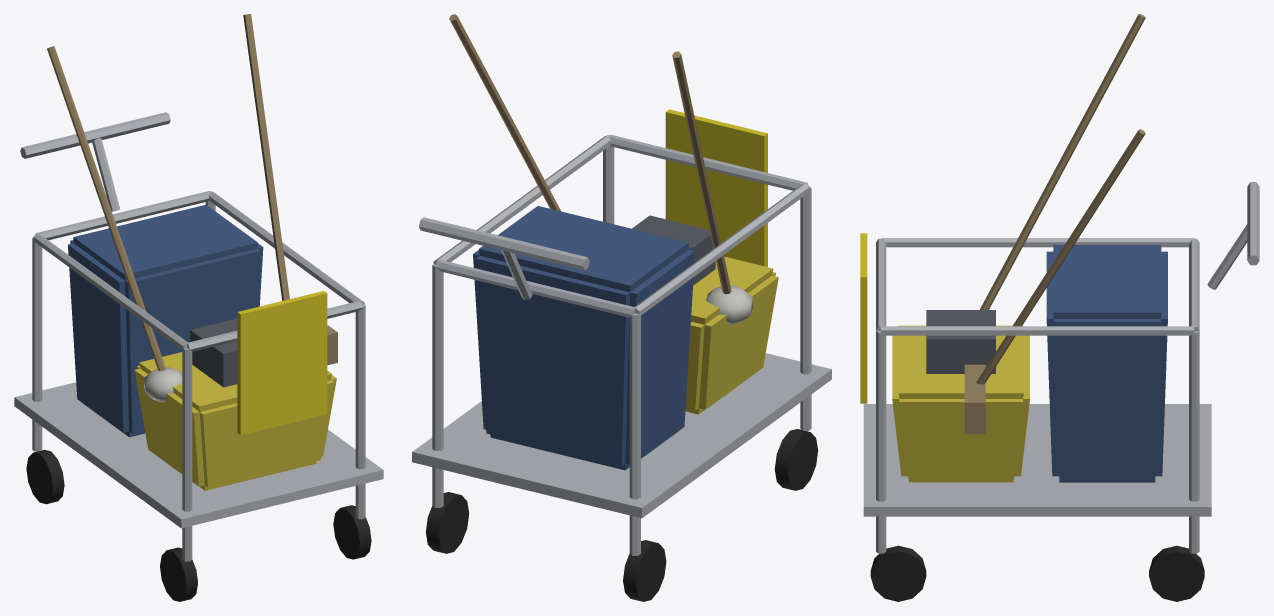
The model's file is janitor_cart.glb.
3 views of the same model, side by side, from view 1: azimuth 30°, elevation 25°; view 2: azimuth 150°, elevation 25°; view 3: azimuth 270°, elevation 25° (orthographic). The views are drawn at different scales.
Parts seen in each view (by area): view 1: bag, shelf, mop_bucket, wet_sign, mop_stick, broom_stick, frame_post, wringer, frame_post.002, frame_post.001, frame_rail.006, handle_bar (+8 smaller); view 2: bag, shelf, wet_sign, mop_bucket, frame_post.001, frame_post.003, frame_post, handle_bar, frame_rail.006, frame_rail.005, mop_stick, frame_rail.004 (+9 smaller); view 3: bag, shelf, mop_bucket, wringer, frame_rail.007, mop_stick, frame_rail.006, broom_stick, wheel.002, wheel.003, frame_post.003, frame_post.002 (+6 smaller).
Part boxes in pixels (x1,y1,x2,y2): bag: [68, 204, 263, 437]; shelf: [14, 382, 383, 528]; mop_bucket: [134, 352, 336, 490]; wet_sign: [237, 291, 327, 435]; mop_stick: [47, 46, 166, 371]; broom_stick: [243, 14, 289, 300]; frame_post: [182, 348, 192, 561]; wringer: [190, 318, 237, 387]; frame_post.002: [355, 304, 365, 519]; frame_post.001: [32, 237, 42, 451]; frame_rail.006: [33, 233, 187, 350]; handle_bar: [20, 112, 170, 158]; bag: [473, 206, 694, 470]; shelf: [412, 353, 831, 518]; wet_sign: [665, 109, 767, 266]; mop_bucket: [685, 256, 778, 414]; frame_post.001: [629, 313, 640, 555]; frame_post.003: [432, 264, 443, 507]; frame_post: [800, 187, 811, 430]; handle_bar: [419, 217, 589, 270]; frame_rail.006: [634, 183, 810, 315]; frame_rail.005: [435, 260, 635, 317]; mop_stick: [672, 51, 731, 294]; frame_rail.004: [609, 134, 807, 190]; bag: [1046, 245, 1167, 482]; shelf: [863, 404, 1211, 516]; mop_bucket: [892, 325, 1029, 482]; wringer: [926, 310, 995, 373]; frame_rail.007: [881, 326, 1194, 335]; mop_stick: [979, 14, 1145, 309]; frame_rail.006: [881, 238, 1194, 247]; broom_stick: [976, 129, 1145, 384]; wheel.002: [870, 545, 926, 601]; wheel.003: [1149, 545, 1204, 601]; frame_post.003: [1189, 331, 1199, 553]; frame_post.002: [876, 331, 886, 553].
Size of what is drawn, in the model's own units: 0.7105 by 1.56 by 1.15.
